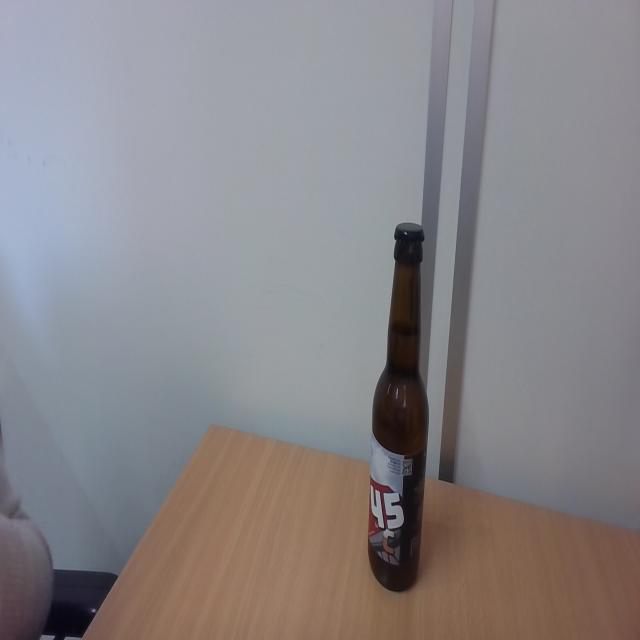Bottle: (368, 243, 428, 591)
Cap: (392, 218, 427, 250)
Label: (371, 446, 423, 568)
